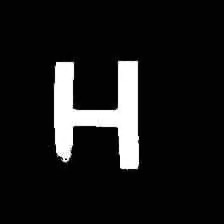LTR_H: (45, 50, 145, 172)
